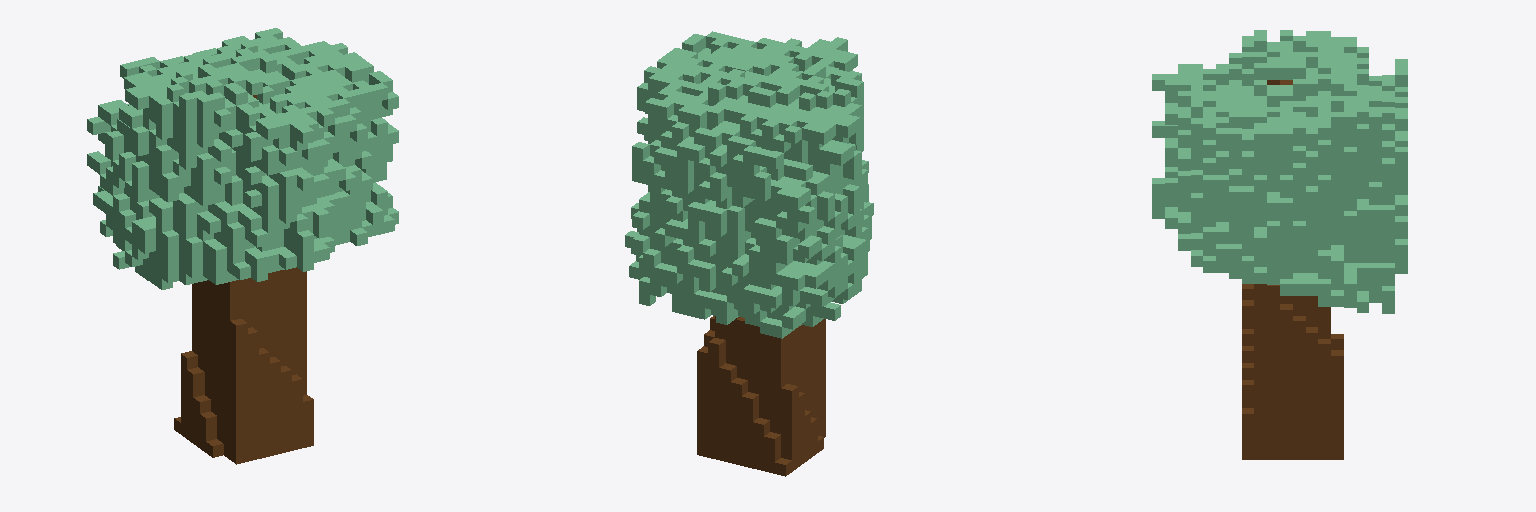
The picture shows the model from 3 angles: view 1: azimuth 30°, elevation 25°; view 2: azimuth 150°, elevation 25°; view 3: azimuth 270°, elevation 25°; orthographic projection.
Visible parts, largest first — view 1: Model; view 2: Model; view 3: Model.
Part boxes in pixels (x1,y1,x2,y2): Model: (87,28,398,464); Model: (625,31,873,476); Model: (1152,30,1407,459).
Bounding box in the file's own units: 19 × 32 × 20.
1 materials, 1 textured.